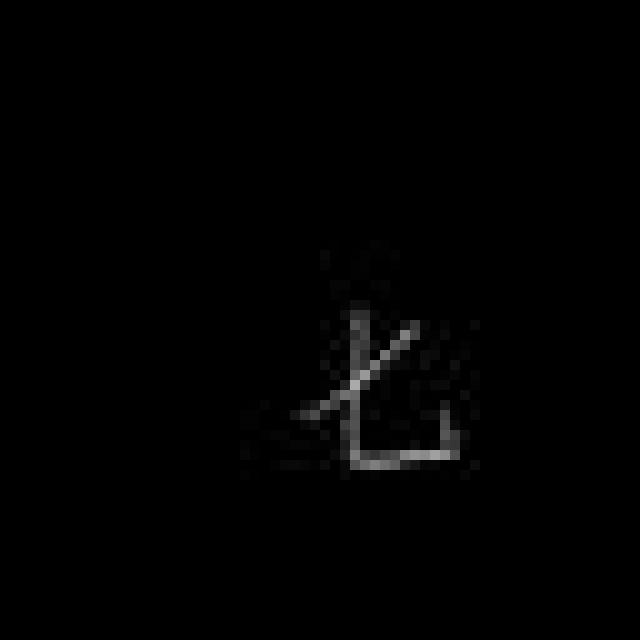7 -seven-: (290, 306, 468, 475)
